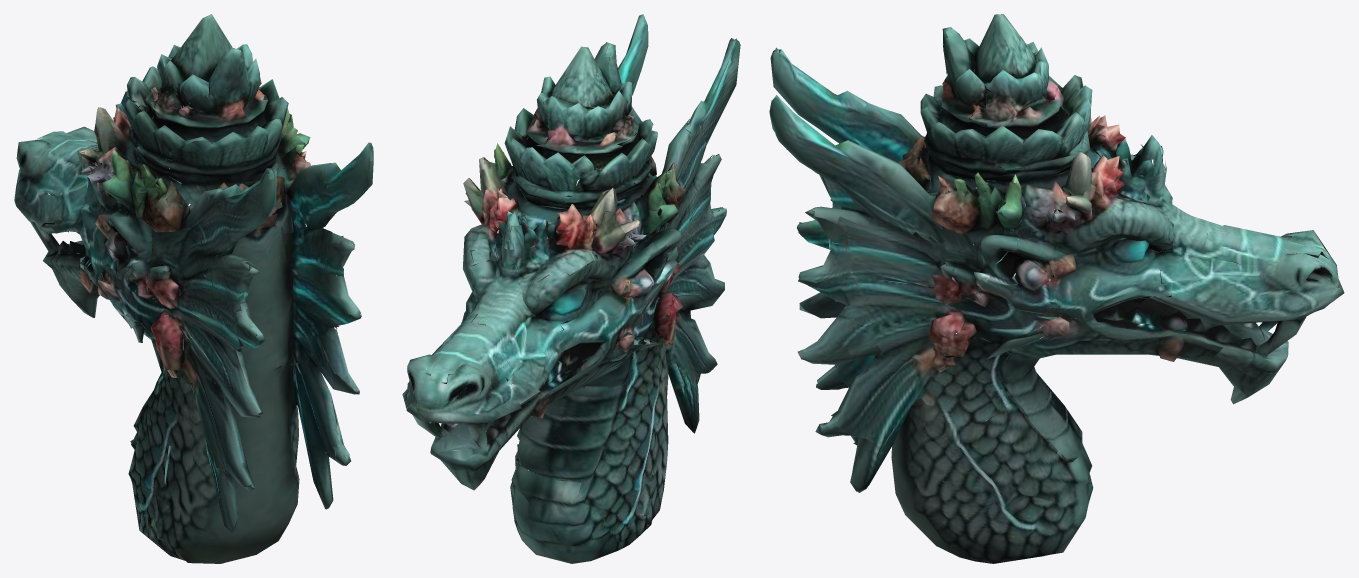
File: leviathan.glb
The picture shows the model from 3 angles, left to right: view 1: azimuth 30°, elevation 25°; view 2: azimuth 150°, elevation 25°; view 3: azimuth 270°, elevation 25°; orthographic projection. The views are drawn at different scales.
Parts seen in each view (by area): view 1: leviathan; view 2: leviathan; view 3: leviathan.
Part boxes in pixels (left/top/right/bottom): leviathan: left=14, top=14, right=373, bottom=563; leviathan: left=402, top=14, right=740, bottom=563; leviathan: left=769, top=14, right=1344, bottom=563.
Bounding box in the file's own units: 0.4083 × 1 × 0.9829.
1 material, 1 textured.
